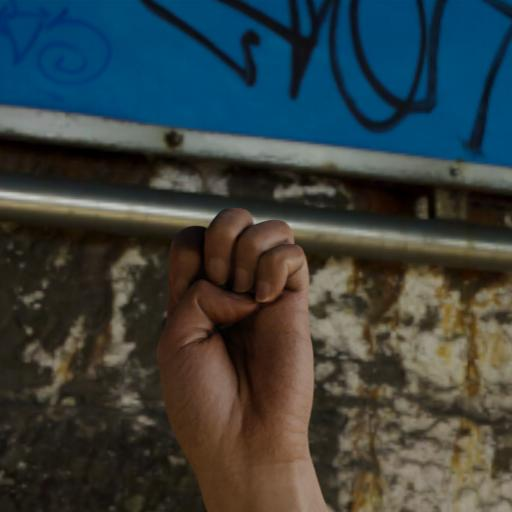E: (127, 191, 337, 506)
